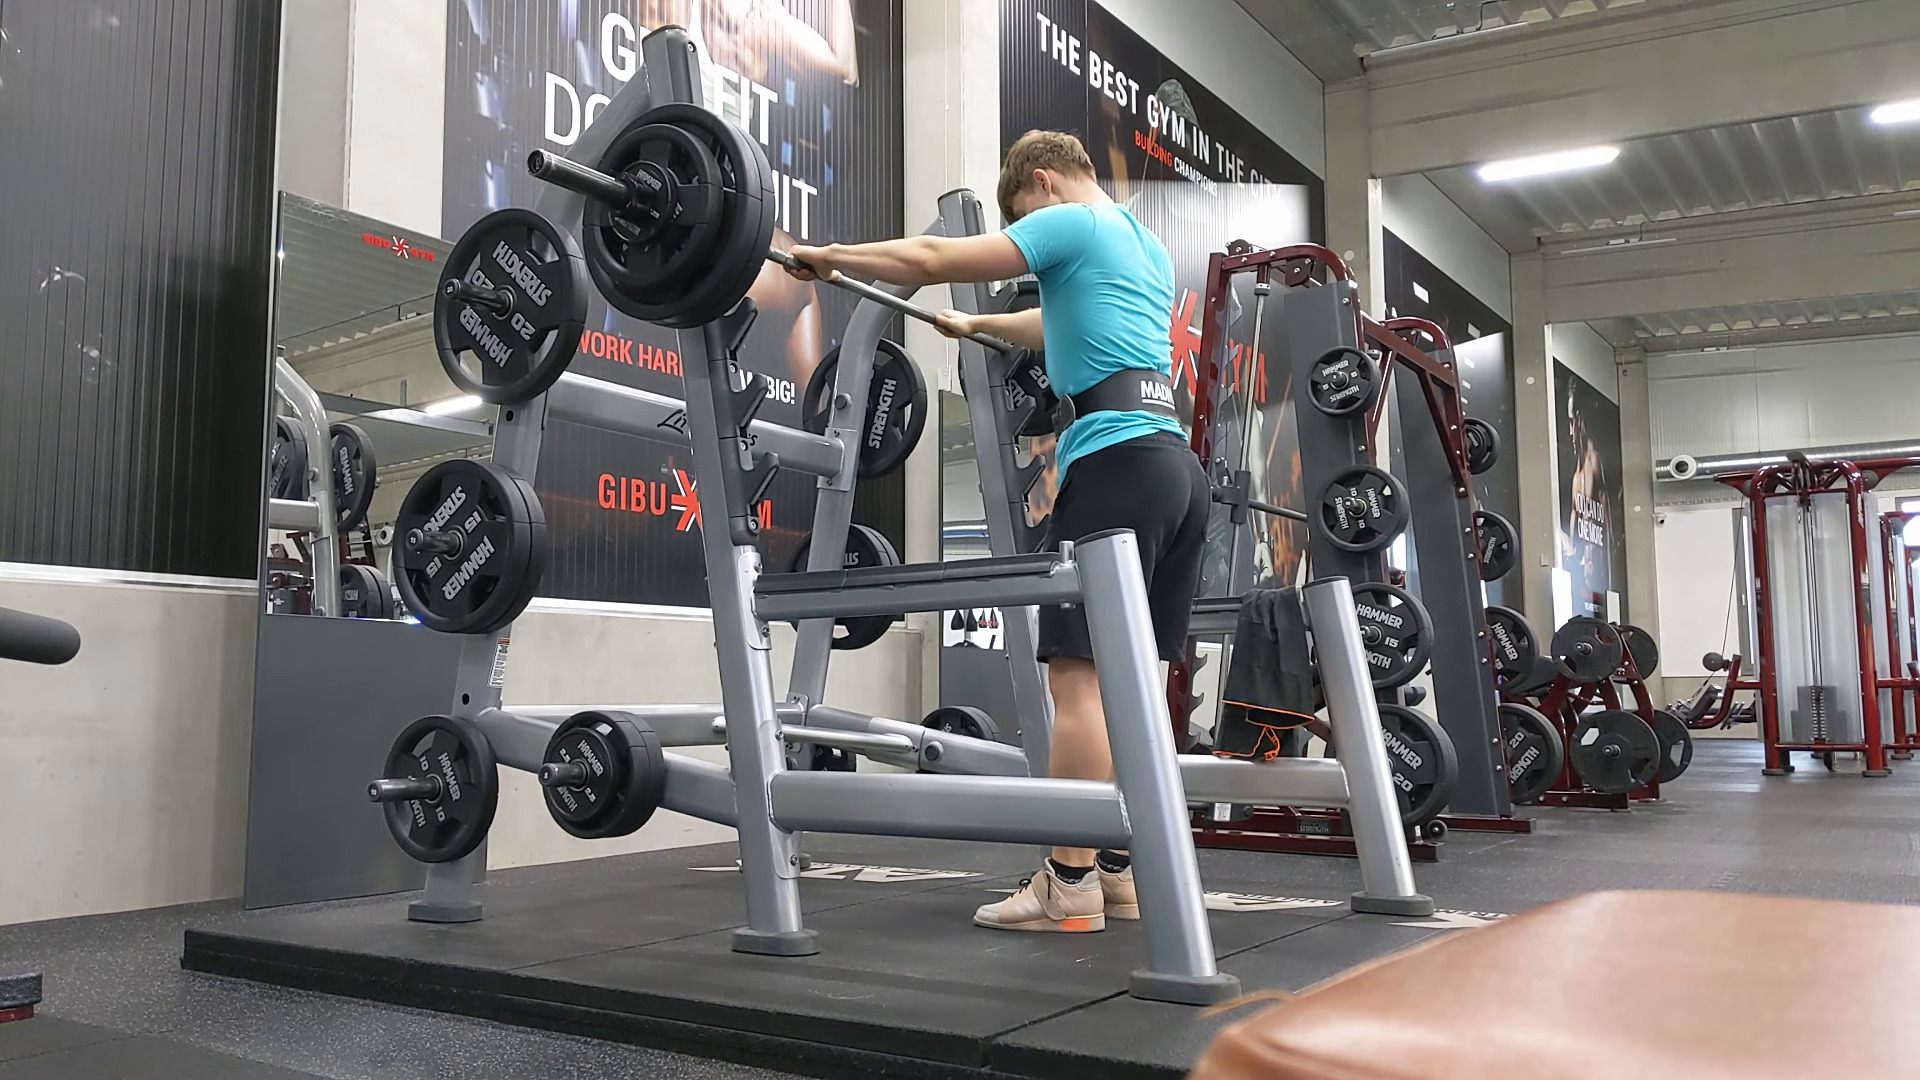barbell: (582, 103, 746, 320)
